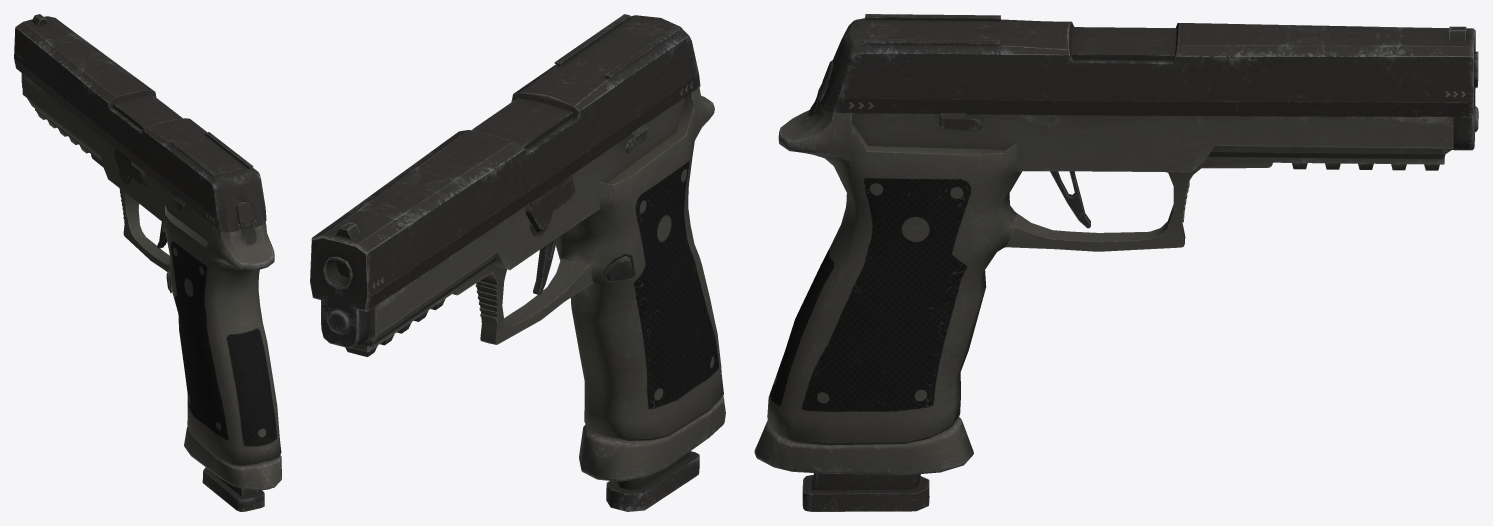
File: pistol.glb
3 views of the same model, side by side, from view 1: azimuth 30°, elevation 25°; view 2: azimuth 150°, elevation 25°; view 3: azimuth 270°, elevation 25° (orthographic). The views are drawn at different scales.
Parts seen in each view (by area): view 1: Pistol; view 2: Pistol; view 3: Pistol.
Part boxes in pixels (bbox=[...]): Pistol: bbox=[14, 14, 281, 511]; Pistol: bbox=[310, 14, 725, 511]; Pistol: bbox=[754, 14, 1478, 511].
Size of the model in its own units: 0.0382 by 0.1973 by 0.2693.
Materials: 1 (1 with a texture image).
